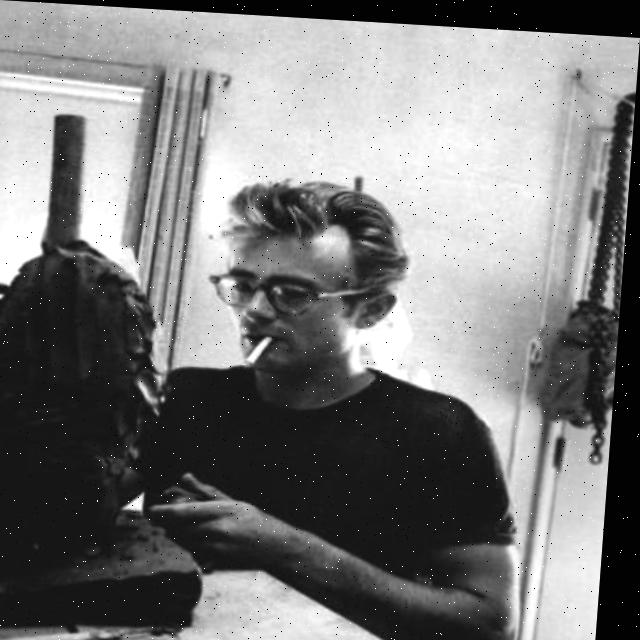cigarette: (247, 330, 282, 366)
